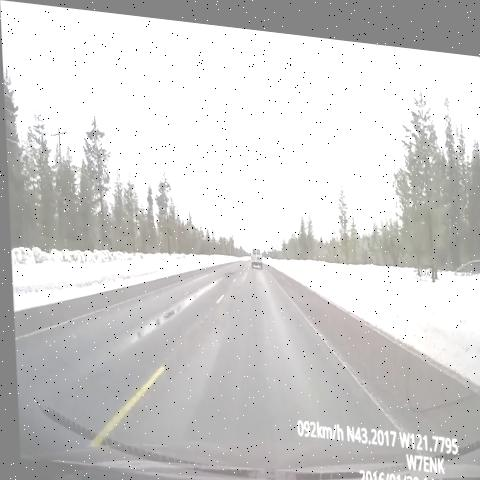pothole: (218, 262, 239, 284)
